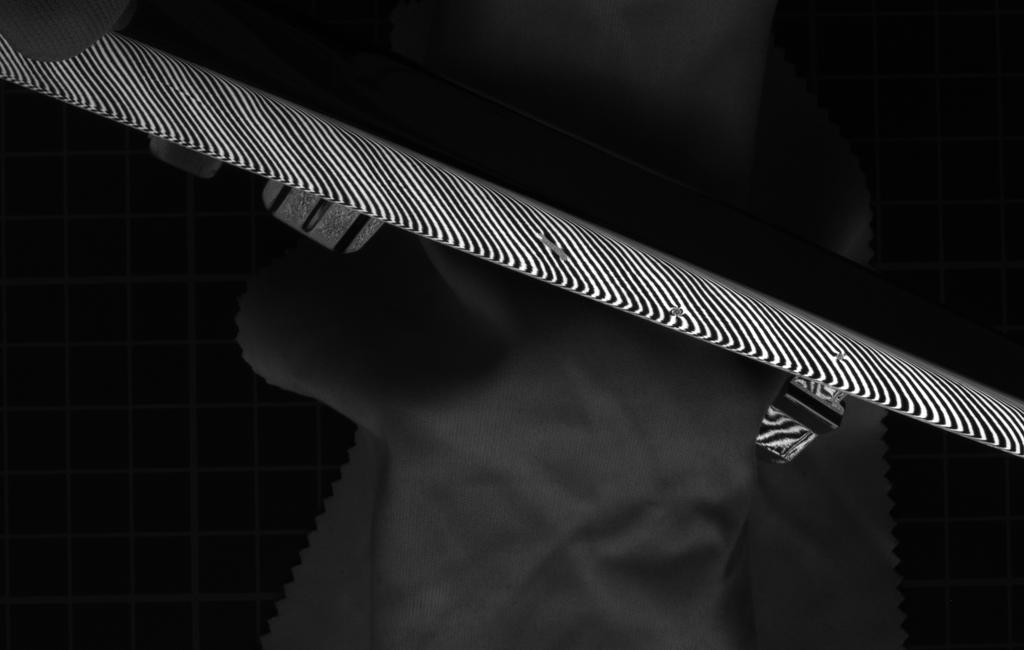Pierced: (667, 300, 693, 322), (830, 347, 854, 366)
Scratch: (532, 224, 583, 268)
